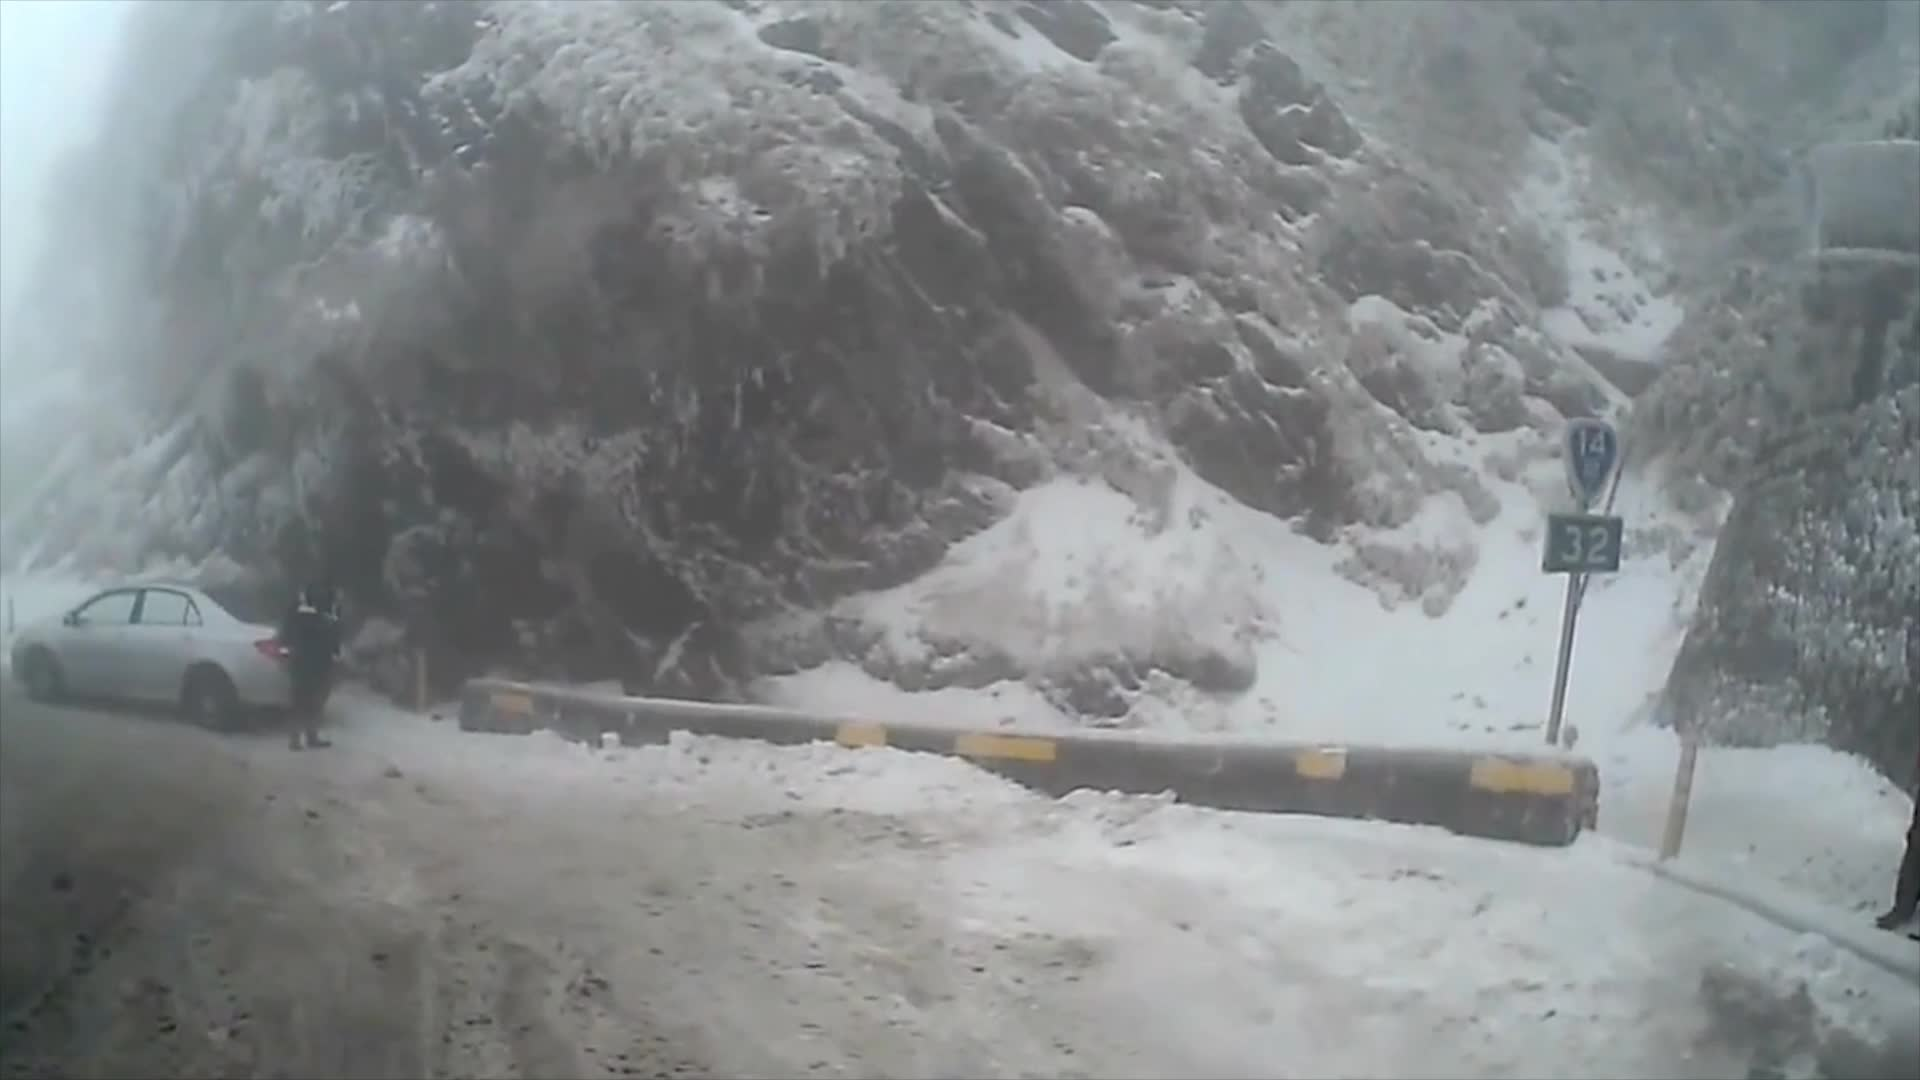pedestrian: (274, 563, 340, 749)
vehicle: (8, 576, 324, 730)
